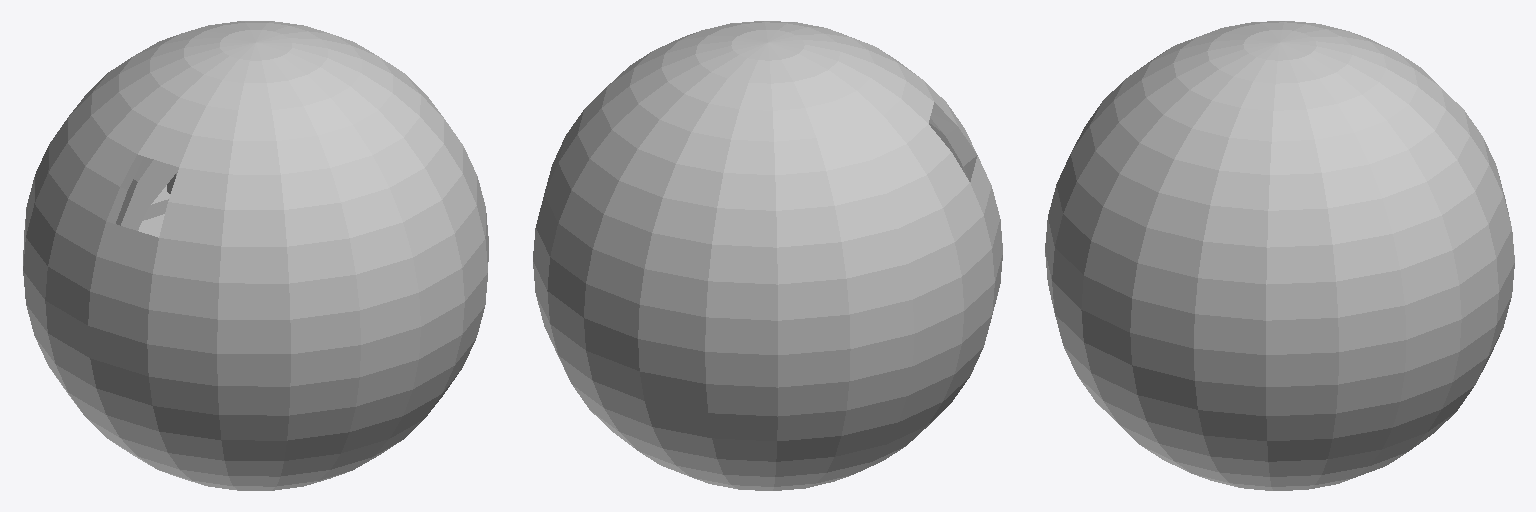
File: moon.obj
3 renders of one model, left to right at view 1: azimuth 30°, elevation 25°; view 2: azimuth 150°, elevation 25°; view 3: azimuth 270°, elevation 25°, orthographic.
Visible parts, largest first — view 1: pSphere3; view 2: pSphere3; view 3: pSphere3.
Boxes of the visible parts, x1=… form: pSphere3: x1=23, y1=21, x2=488, y2=490; pSphere3: x1=533, y1=21, x2=1002, y2=490; pSphere3: x1=1045, y1=21, x2=1514, y2=490.
Bounding box in the file's own units: 26.38 × 26.43 × 26.38.